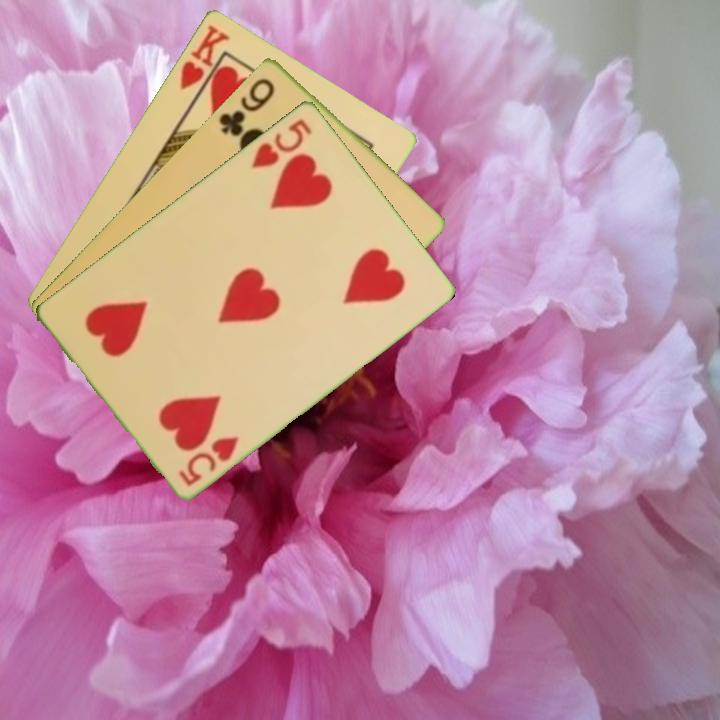5h: (175, 431, 242, 489), (248, 114, 315, 171)
9c: (215, 74, 278, 139)
Kh: (176, 20, 233, 104)
